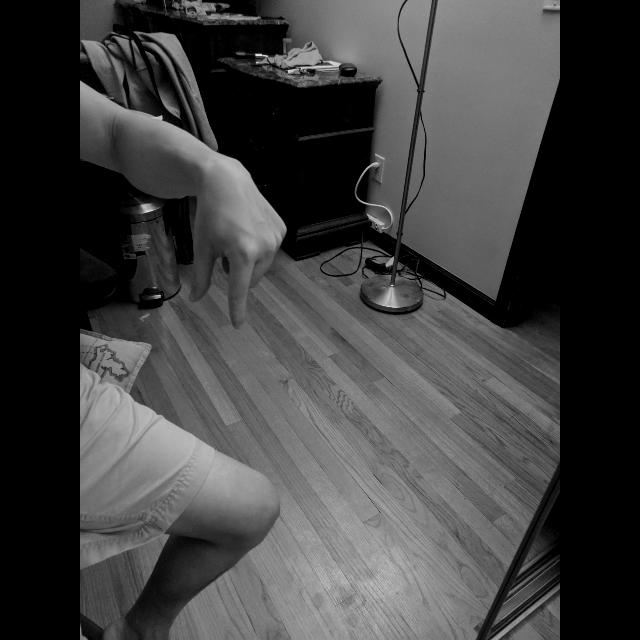Q: (188, 160, 290, 336)
